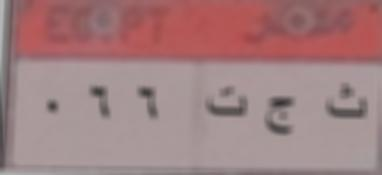0: (34, 92, 72, 124)
6: (126, 82, 169, 125), (82, 78, 115, 127)
jeem: (258, 84, 305, 147)
taa: (198, 82, 259, 124)
thaa: (323, 79, 372, 127)
